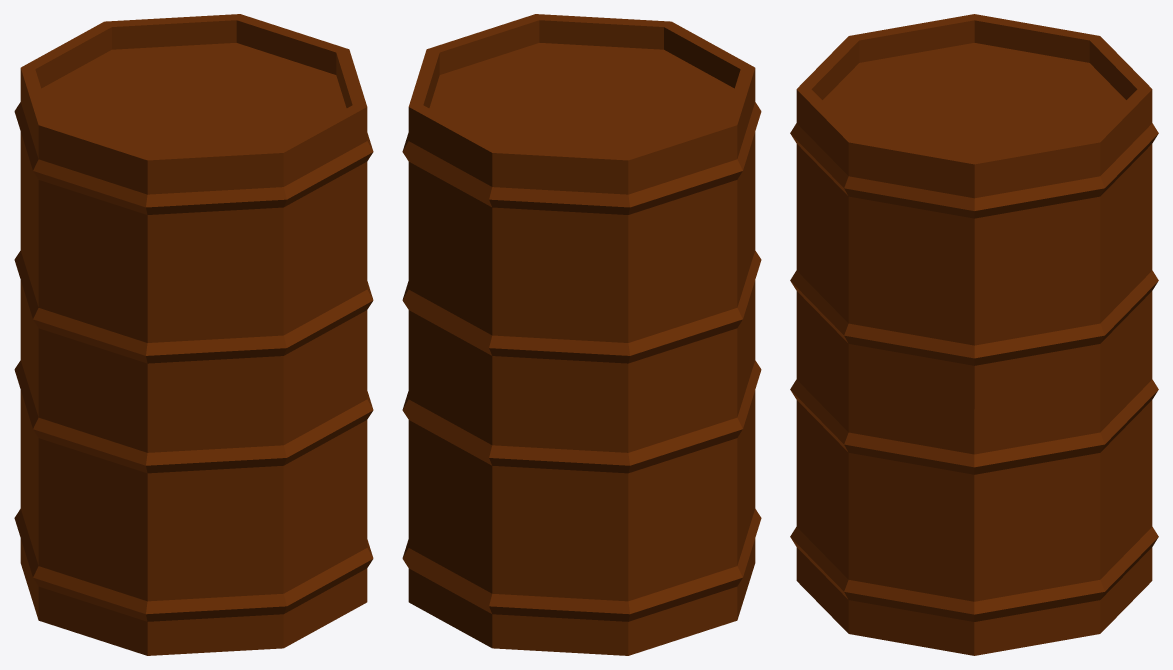
The model's file is LP_PostApoc_Barrel.fbx.
3 renders of one model, left to right at view 1: azimuth 30°, elevation 25°; view 2: azimuth 150°, elevation 25°; view 3: azimuth 270°, elevation 25°, orthographic.
Parts seen in each view (by area): view 1: Barrel; view 2: Barrel; view 3: Barrel.
Boxes of the visible parts, x1,y1,x2,y2 form: Barrel: (14, 14, 373, 655); Barrel: (402, 14, 761, 655); Barrel: (790, 14, 1158, 655).
Bounding box in the file's own units: 68 × 100 × 68.
